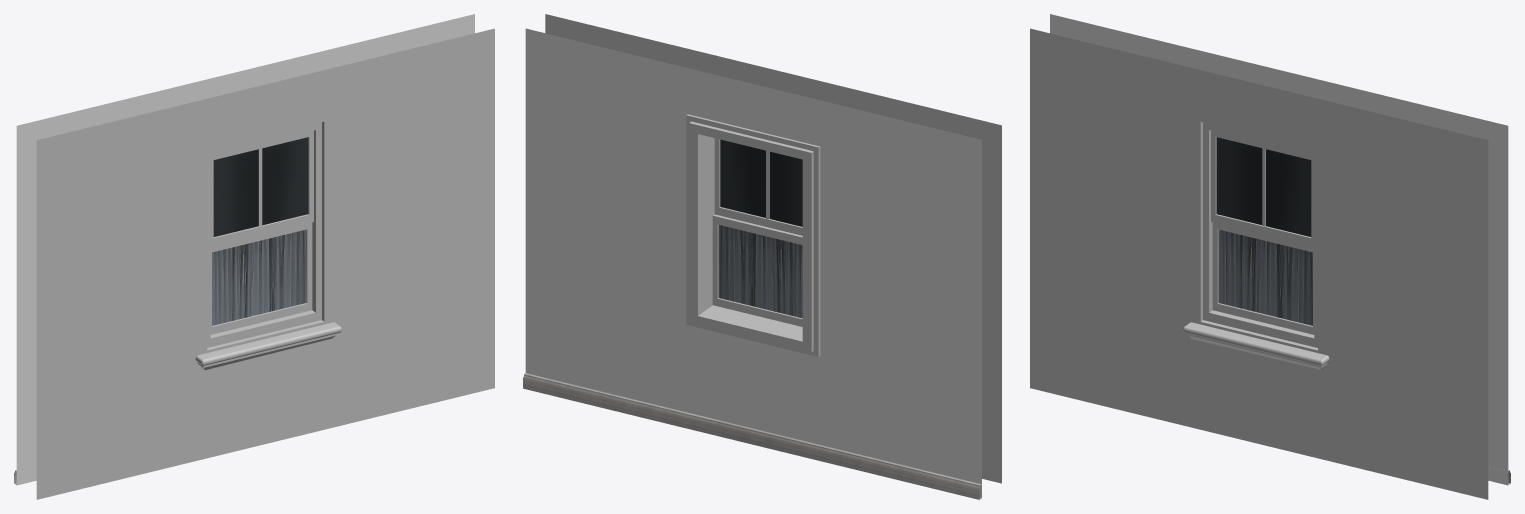
File: House_01_Windows_03.fbx
3 views of the same model, side by side, from view 1: azimuth 30°, elevation 25°; view 2: azimuth 150°, elevation 25°; view 3: azimuth 330°, elevation 25° (orthographic).
Parts seen in each view (by area): view 1: House_01_Windows_03_LOD0; view 2: House_01_Windows_03_LOD0; view 3: House_01_Windows_03_LOD0.
Boxes of the visible parts, x1,y1,x2,y2 form: House_01_Windows_03_LOD0: (14,14,494,499); House_01_Windows_03_LOD0: (523,14,1001,499); House_01_Windows_03_LOD0: (1030,14,1510,499).
Size of what is drawn, in the model's own units: 400 by 300 by 45.7.
